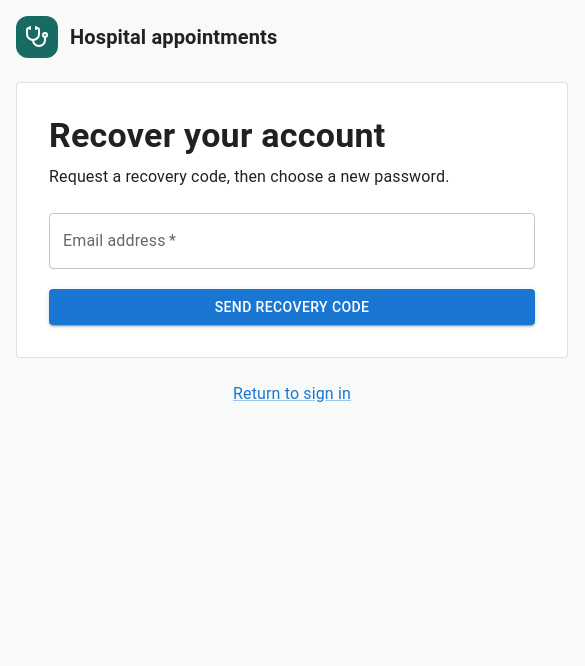
Test: identity routes › recovers an account using the requested email
Type "patient@example.test" into the field labelled "Email address *". click: (292, 241)
box: left=49, top=213, right=535, bottom=269
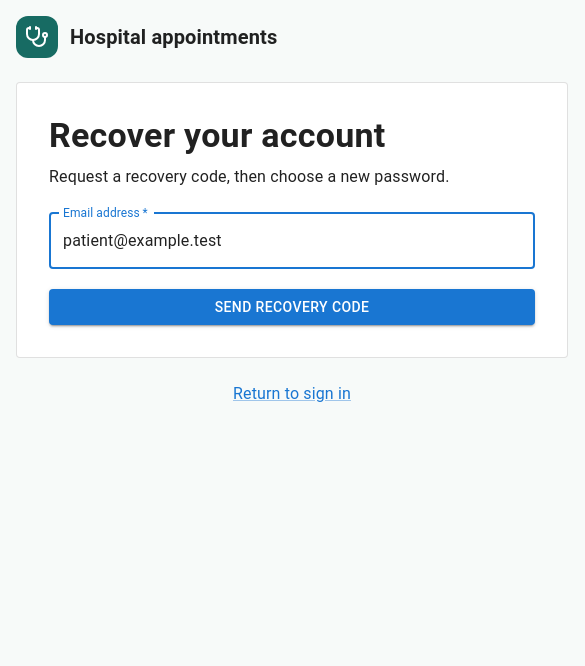
Click the button "Send recovery code". click: (292, 307)
box: left=49, top=289, right=535, bottom=326
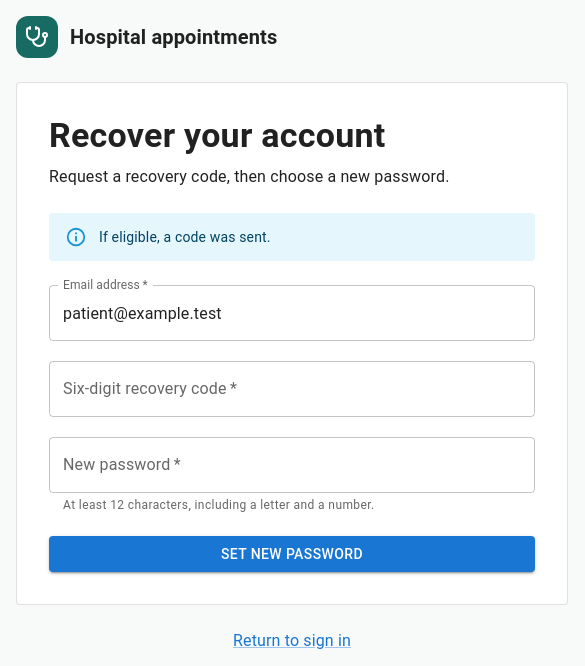
Type "123456" into the field labelled "Six-digit recovery code *". click: (292, 389)
box: left=49, top=361, right=535, bottom=417
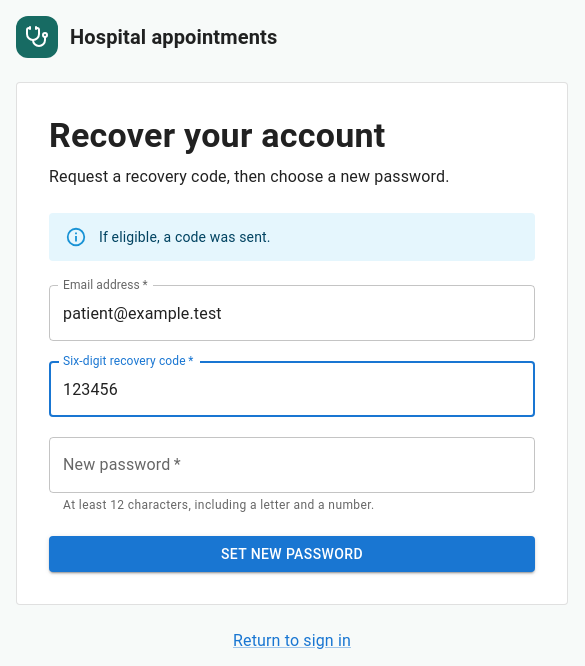
Type "example-password-2" into the password field labelled "New password *". click: (292, 465)
box: left=49, top=437, right=535, bottom=493
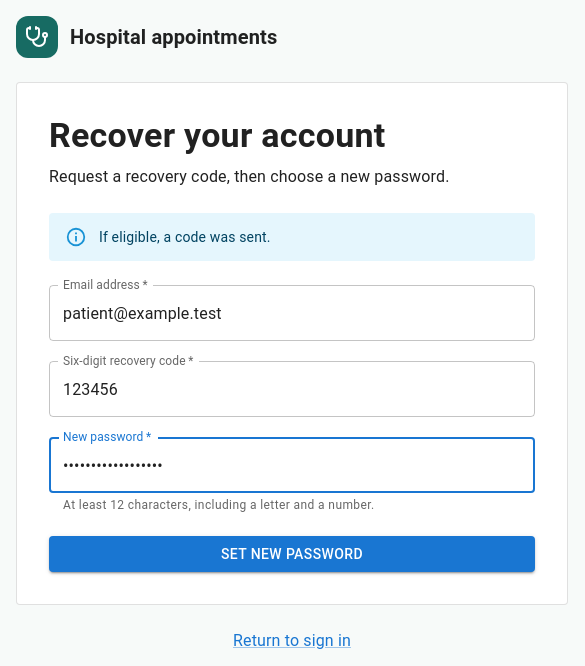
Click the button "Set new password". click: (292, 554)
box: left=49, top=536, right=535, bottom=572
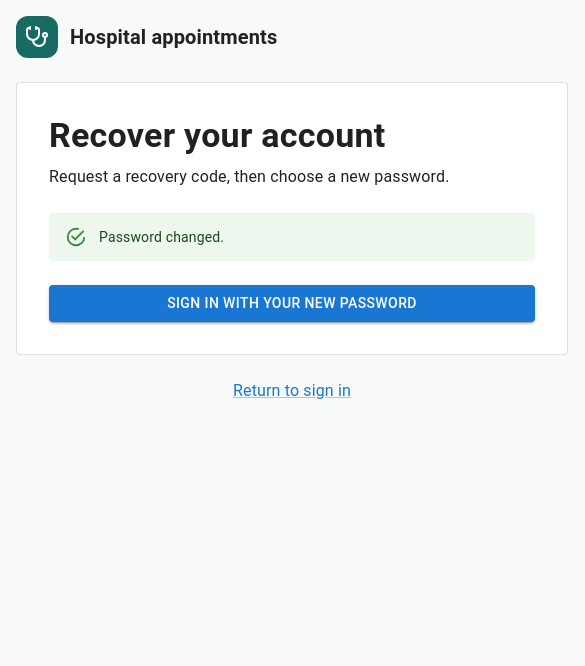
Expected: the text "Password changed." is shown, left=99, top=229, right=224, bottom=245
